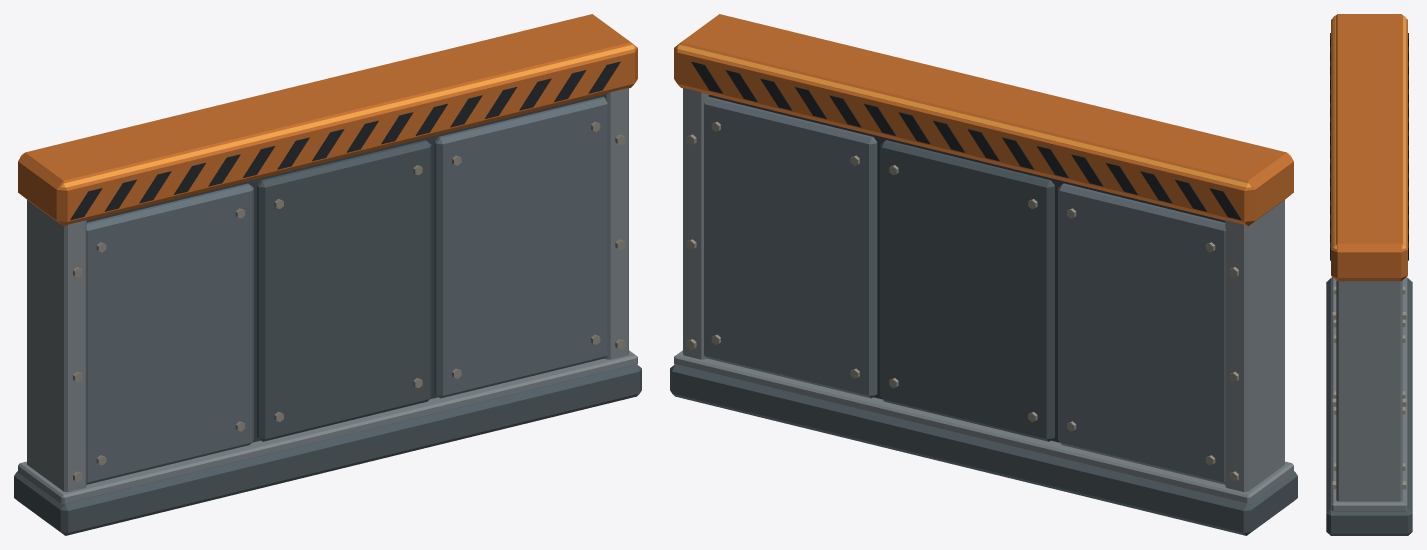
File: wsc-arch-002-industrial-wall-bay.glb
The picture shows the model from 3 angles, left to right: view 1: azimuth 30°, elevation 25°; view 2: azimuth 150°, elevation 25°; view 3: azimuth 270°, elevation 25°; orthographic projection. The views are drawn at different scales.
Parts seen in each view (by area): view 1: Blue steel, Cool graphite, Burnt enamel, Rolled steel, Gasket, Safety enamel, Carbon, Zinc heads; view 2: Blue steel, Cool graphite, Burnt enamel, Rolled steel, Gasket, Safety enamel, Carbon, Zinc heads; view 3: Burnt enamel, Rolled steel, Cool graphite, Safety enamel, Zinc heads, Gasket.
Boxes of the visible parts, x1,y1,x2,y2 form: Blue steel: [86, 96, 607, 484]; Cool graphite: [14, 140, 641, 535]; Burnt enamel: [18, 14, 637, 226]; Rolled steel: [18, 88, 637, 504]; Gasket: [70, 61, 620, 220]; Safety enamel: [20, 44, 635, 188]; Carbon: [86, 95, 603, 442]; Zinc heads: [73, 121, 625, 481]; Blue steel: [704, 96, 1225, 484]; Cool graphite: [670, 140, 1297, 535]; Burnt enamel: [674, 14, 1293, 226]; Rolled steel: [674, 88, 1293, 504]; Gasket: [691, 61, 1241, 220]; Safety enamel: [676, 44, 1291, 188]; Carbon: [708, 95, 1225, 442]; Zinc heads: [686, 121, 1238, 481]; Burnt enamel: [1331, 14, 1407, 281]; Rolled steel: [1331, 276, 1407, 511]; Cool graphite: [1326, 278, 1412, 535]; Safety enamel: [1332, 15, 1406, 249]; Zinc heads: [1332, 286, 1406, 489]; Gasket: [1330, 33, 1408, 260].
Size of the model in its own units: 3.6 by 2.08 by 0.56.
